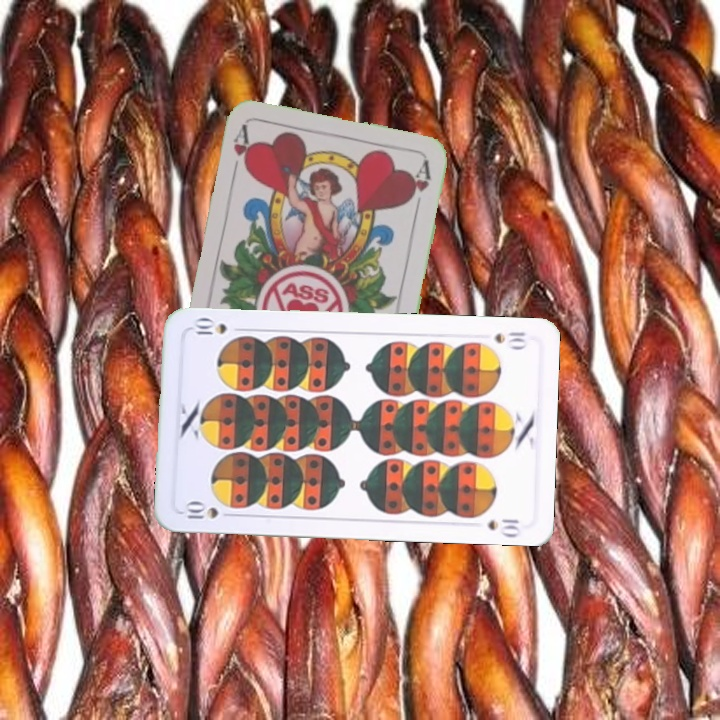HA: (227, 122, 255, 181)
S10: (178, 499, 237, 523), (491, 328, 530, 351)
